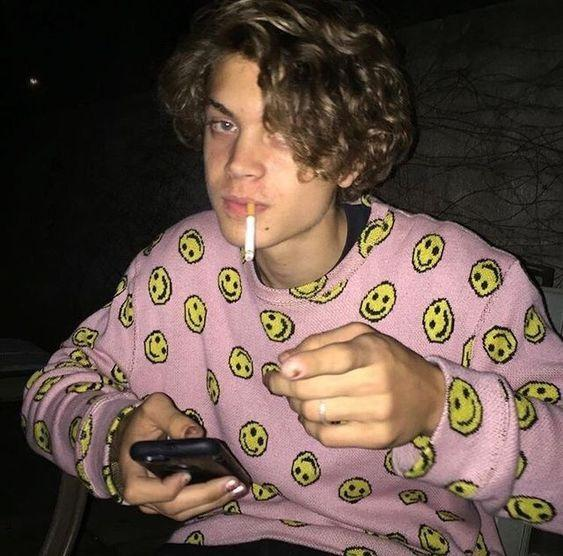cigarette: (245, 200, 255, 261)
